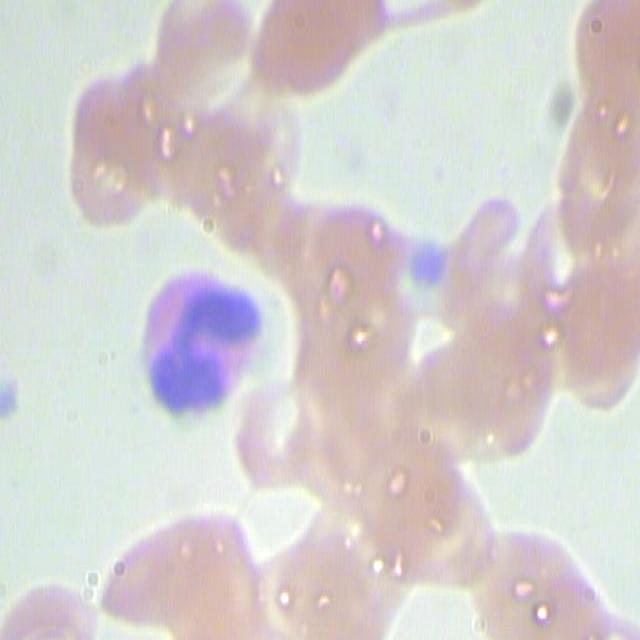Platelets: (400, 238, 450, 286), (0, 374, 29, 426)
RBC: (94, 502, 259, 634), (441, 295, 552, 465), (544, 106, 639, 274), (544, 248, 638, 416), (247, 0, 395, 101), (64, 55, 150, 228), (462, 511, 562, 638), (302, 198, 411, 310), (150, 0, 259, 111), (235, 374, 329, 502), (354, 420, 448, 548), (410, 460, 504, 588), (561, 0, 639, 133)
WBC: (115, 255, 277, 424)
